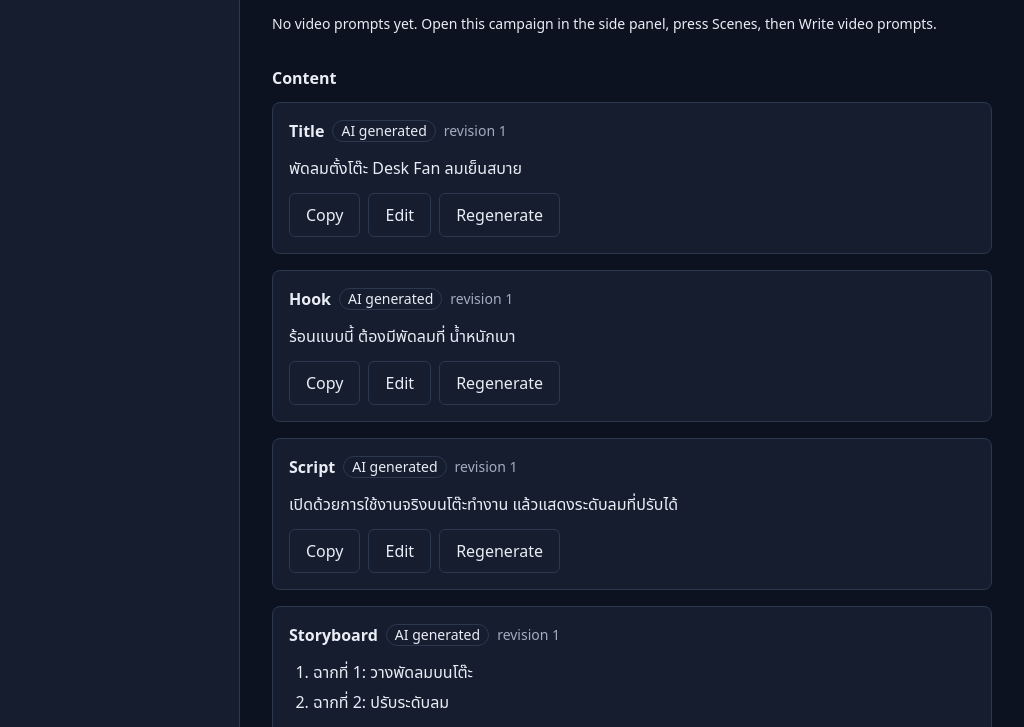
Test: DraftPage: copy › copies one section
(page scrolled)
Click the button "Copy" below "ร้อนแบบนี้ ต้องมีพัดลมที่ น้ำหนักเบา" at (325, 383), box [289,361,360,405]
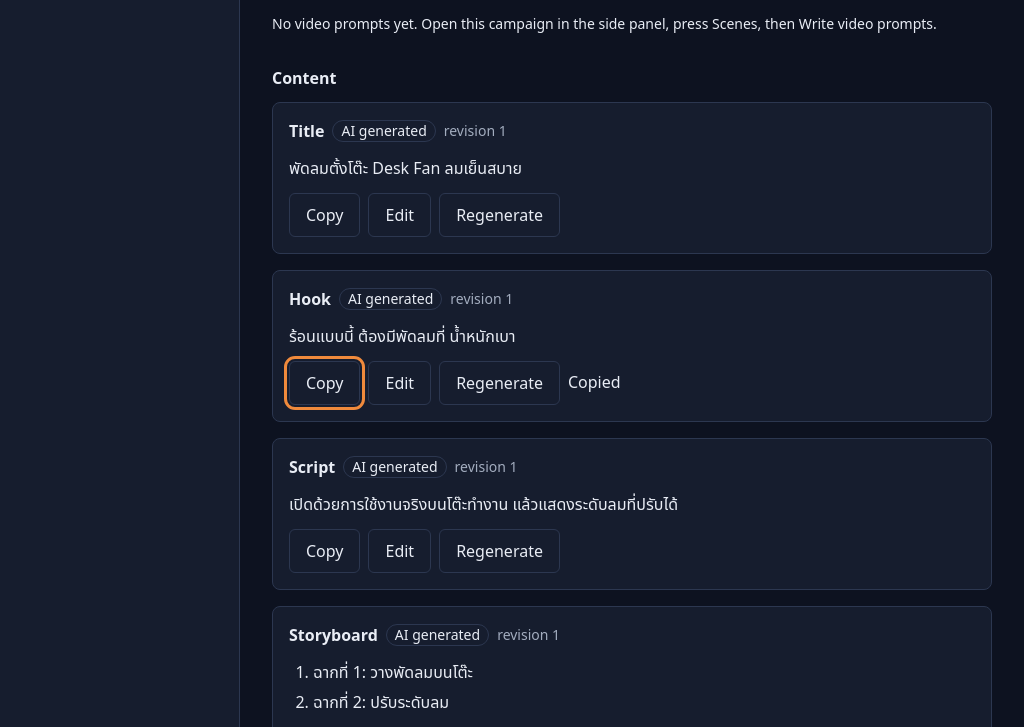
Expected: the text "Copied" is shown, [568,370,621,395]
